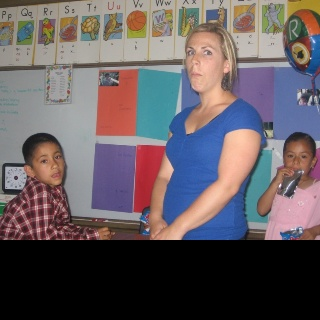without_mask: (185, 32, 226, 91), (32, 144, 65, 185), (285, 141, 313, 174)
